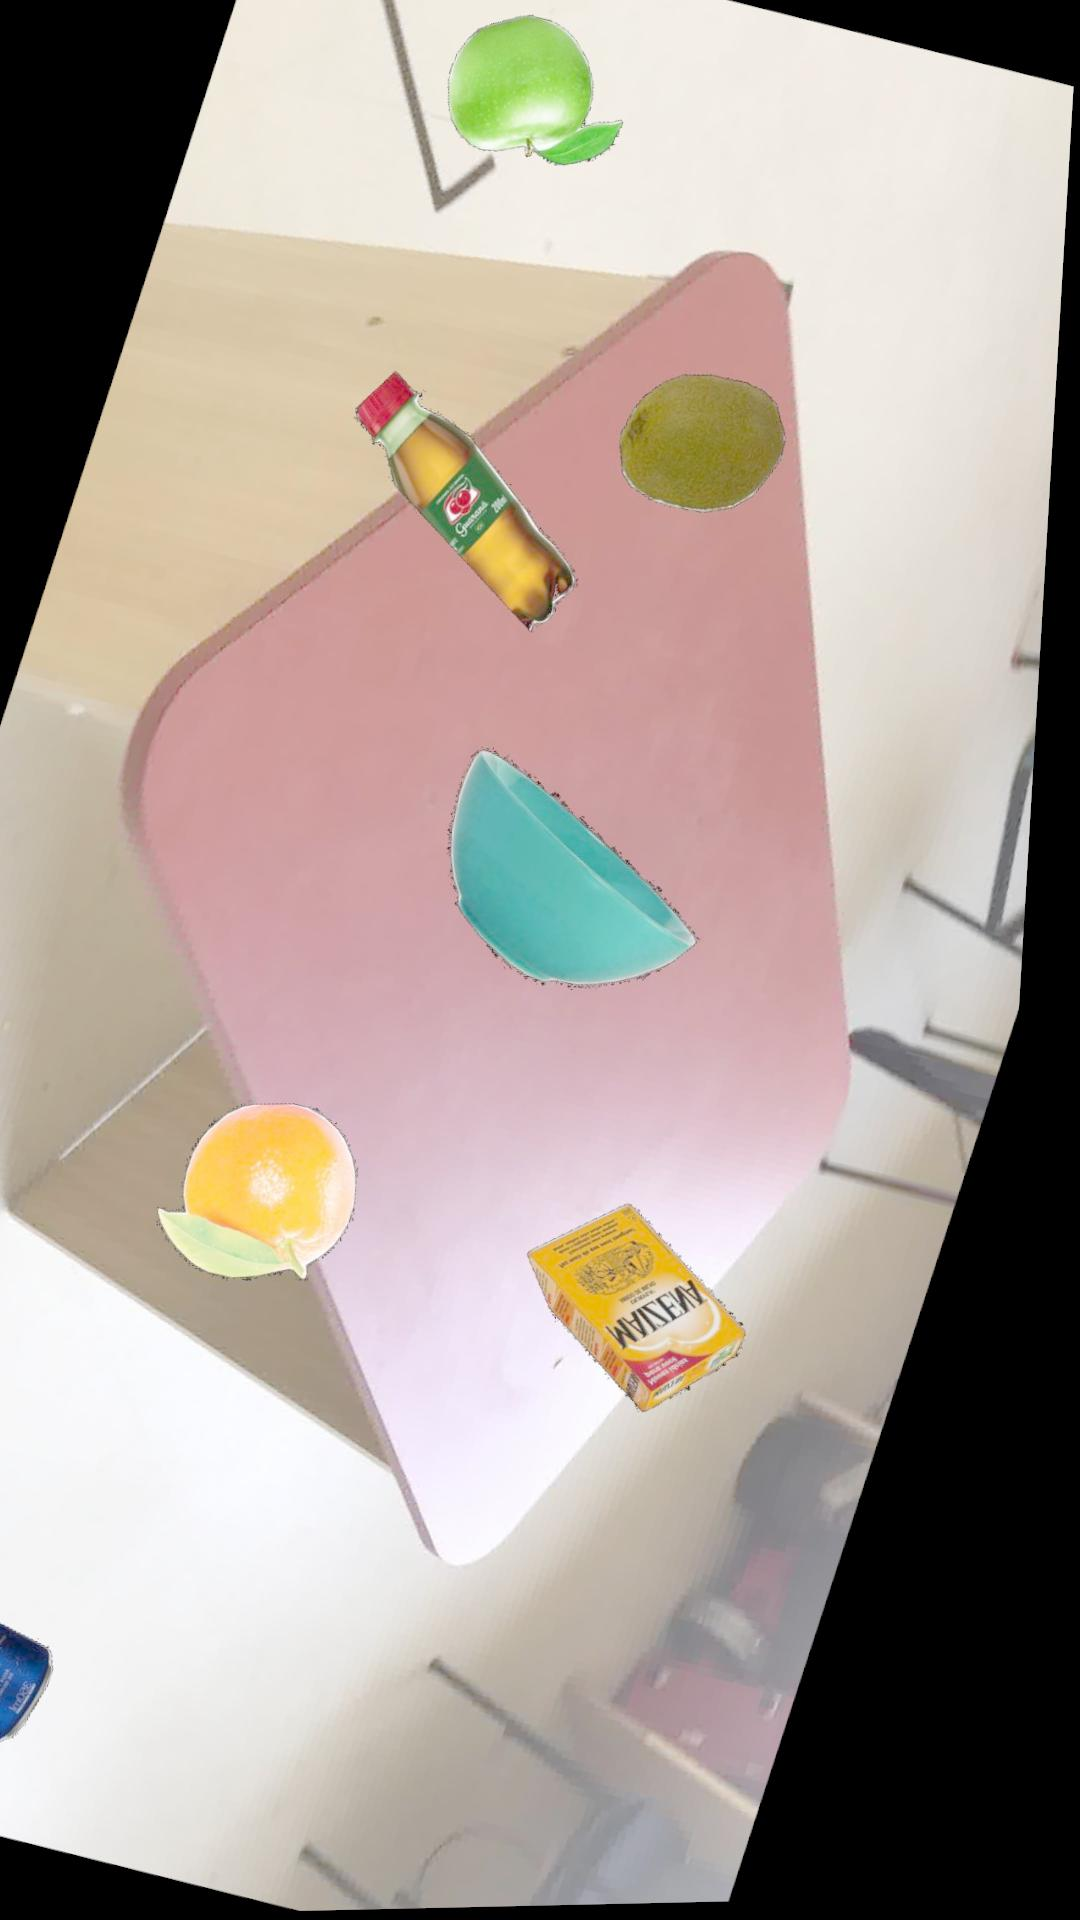bowl: (456, 750, 708, 986)
green apple: (448, 16, 624, 166)
guarana: (360, 372, 582, 633)
kiwi: (624, 376, 790, 514)
orange: (171, 1104, 371, 1280)
tonic: (0, 1610, 74, 1745)
